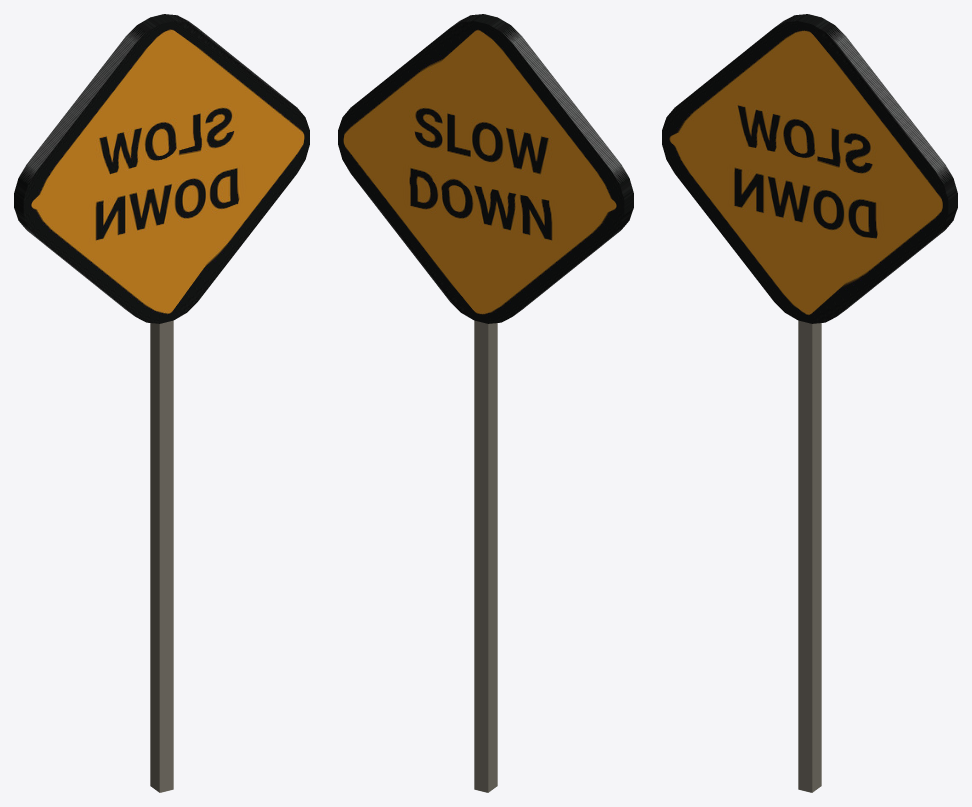
File: SignSlowdown.fbx
3 renders of one model, left to right at view 1: azimuth 30°, elevation 25°; view 2: azimuth 150°, elevation 25°; view 3: azimuth 330°, elevation 25°, orthographic.
Parts seen in each view (by area): view 1: SlowDown; view 2: SlowDown; view 3: SlowDown.
Boxes of the visible parts, x1,y1,x2,y2 form: SlowDown: (14, 14, 309, 792); SlowDown: (338, 14, 633, 792); SlowDown: (662, 14, 957, 792).
Bounding box in the file's own units: 358 × 919 × 20.68.
